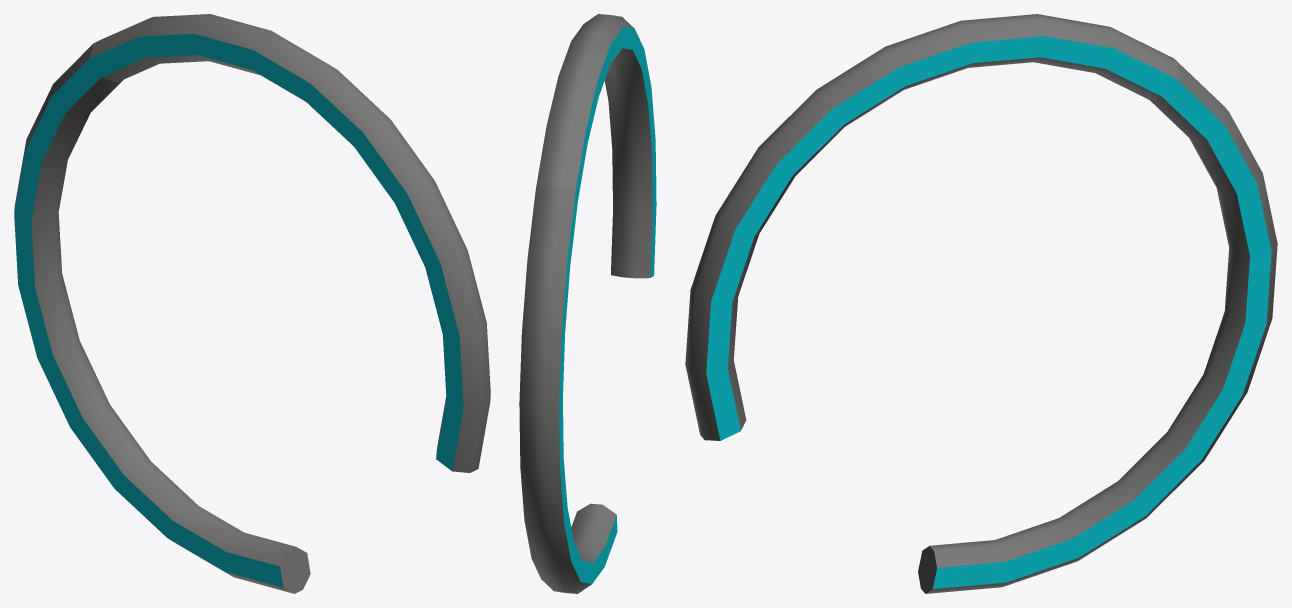
The model's file is PouterCircle01.fbx.
3 views of the same model, side by side, from view 1: azimuth 30°, elevation 25°; view 2: azimuth 150°, elevation 25°; view 3: azimuth 270°, elevation 25° (orthographic). The views are drawn at different scales.
Visible parts, largest first — view 1: PortalOuterRing02; view 2: PortalOuterRing02; view 3: PortalOuterRing02.
Boxes of the visible parts, x1,y1,x2,y2 form: PortalOuterRing02: (14,14,490,593); PortalOuterRing02: (519,14,656,593); PortalOuterRing02: (685,14,1277,593).
Size of the model in its own units: 96.6 by 245 by 232.
